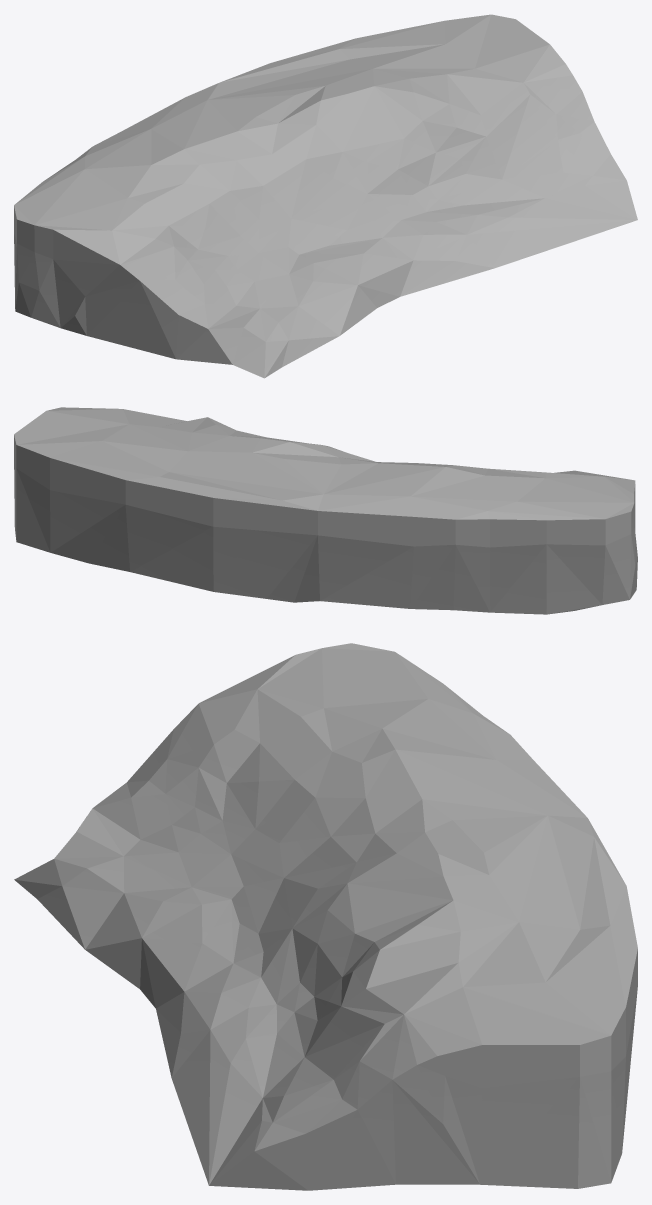
Rendered from SM_Gen_Env_Ground_River_Dirt_05.glb.
3 views of the same model, one above another, from view 1: azimuth 30°, elevation 25°; view 2: azimuth 150°, elevation 25°; view 3: azimuth 270°, elevation 25° (orthographic). The views are drawn at different scales.
Parts seen in each view (by area): view 1: SM_Gen_Env_Ground_River_Dirt_05; view 2: SM_Gen_Env_Ground_River_Dirt_05; view 3: SM_Gen_Env_Ground_River_Dirt_05.
Part boxes in pixels (left/top/right/bottom): SM_Gen_Env_Ground_River_Dirt_05: left=14, top=14, right=637, bottom=378; SM_Gen_Env_Ground_River_Dirt_05: left=14, top=407, right=637, bottom=614; SM_Gen_Env_Ground_River_Dirt_05: left=14, top=643, right=637, bottom=1190.
Size of the model in its own units: 10.35 by 2.07 by 6.77.
1 material, 1 textured.
